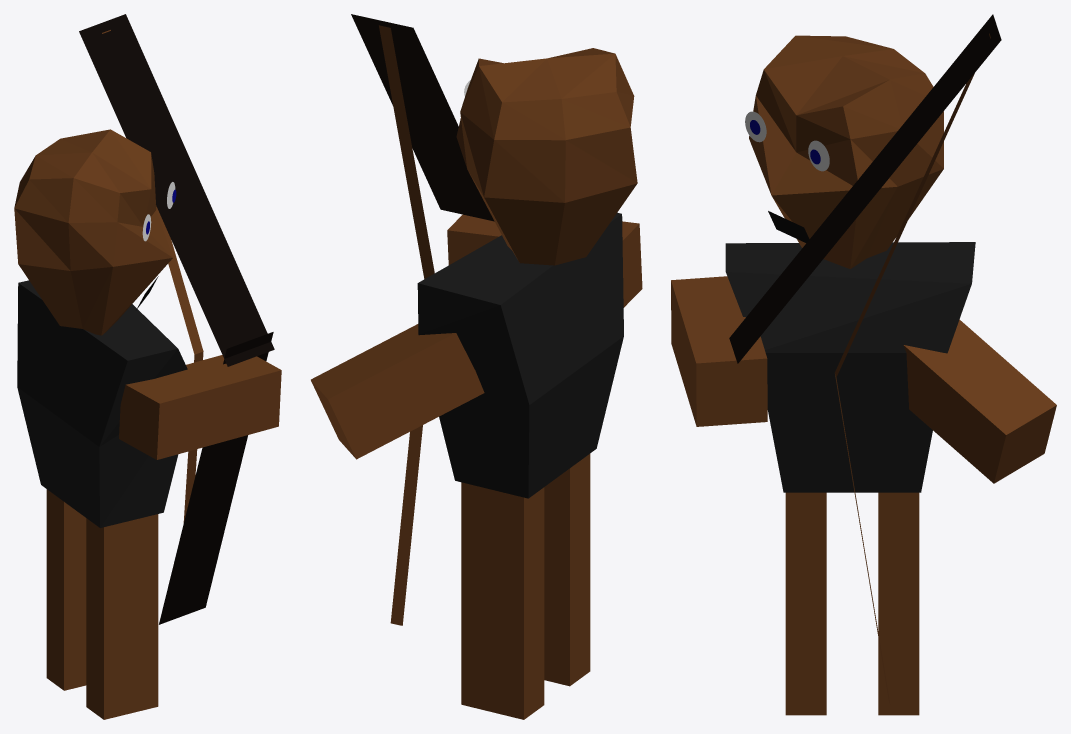
File: archer3f.obj
3 renders of one model, left to right at view 1: azimuth 30°, elevation 25°; view 2: azimuth 150°, elevation 25°; view 3: azimuth 270°, elevation 25°, orthographic. The views are drawn at different scales.
Parts seen in each view (by area): view 1: Cube.001, Cube, Plane.002_Plane.003, Cube.004, Cube.003, Plane.001_Plane.002, Cube.005, Plane.003_Plane.004; view 2: Cube.001, Cube, Cube.005, Cube.002, Cube.004, Plane.002_Plane.003, Plane.003_Plane.004, Cube.003; view 3: Cube.001, Cube, Cube.002, Cube.003, Plane.002_Plane.003, Cube.004, Cube.005, Plane.003_Plane.004.
Part boxes in pixels (x1,y1,x2,y2): Cube.001: (17,280,187,527); Cube: (14,129,172,335); Plane.002_Plane.003: (79,14,274,366); Cube.004: (86,514,158,719); Cube.003: (119,355,281,459); Plane.001_Plane.002: (159,332,273,624); Cube.005: (46,489,86,690); Plane.003_Plane.004: (102,30,203,522); Cube.001: (417,212,623,498); Cube: (456,48,637,265); Cube.005: (461,482,544,719); Cube.002: (311,324,484,459); Cube.004: (544,454,590,686); Plane.002_Plane.003: (351,14,494,221); Plane.003_Plane.004: (379,25,434,625); Cube.003: (447,214,642,307); Cube.001: (725,242,975,492); Cube: (749,35,943,268); Cube.002: (903,319,1056,483); Cube.003: (671,276,767,426); Plane.002_Plane.003: (729,14,1001,363); Cube.004: (785,492,826,715); Cube.005: (878,492,919,715); Plane.003_Plane.004: (835,33,990,704).
Bounding box in the file's own units: 2.42 × 6.6 × 3.26.
